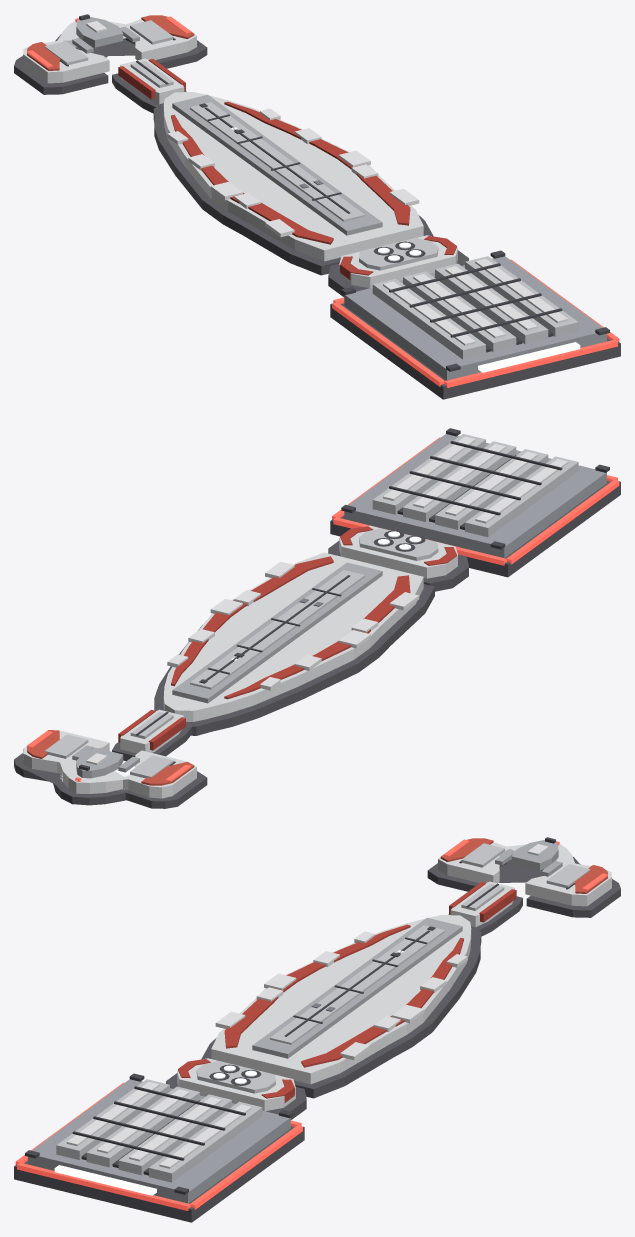
Rendered from civilian_corvette.glb.
3 views of the same model, one above another, from view 1: azimuth 30°, elevation 25°; view 2: azimuth 150°, elevation 25°; view 3: azimuth 330°, elevation 25° (orthographic).
Parts seen in each view (by area): view 1: CivilianCorvette; view 2: CivilianCorvette; view 3: CivilianCorvette.
Part boxes in pixels (x1=…): CivilianCorvette: x1=14, y1=14, x2=620, y2=399; CivilianCorvette: x1=14, y1=428, x2=620, y2=808; CivilianCorvette: x1=14, y1=837, x2=620, y2=1222.
Bounding box in the file's own units: 1.01 × 0.2 × 4.49.
